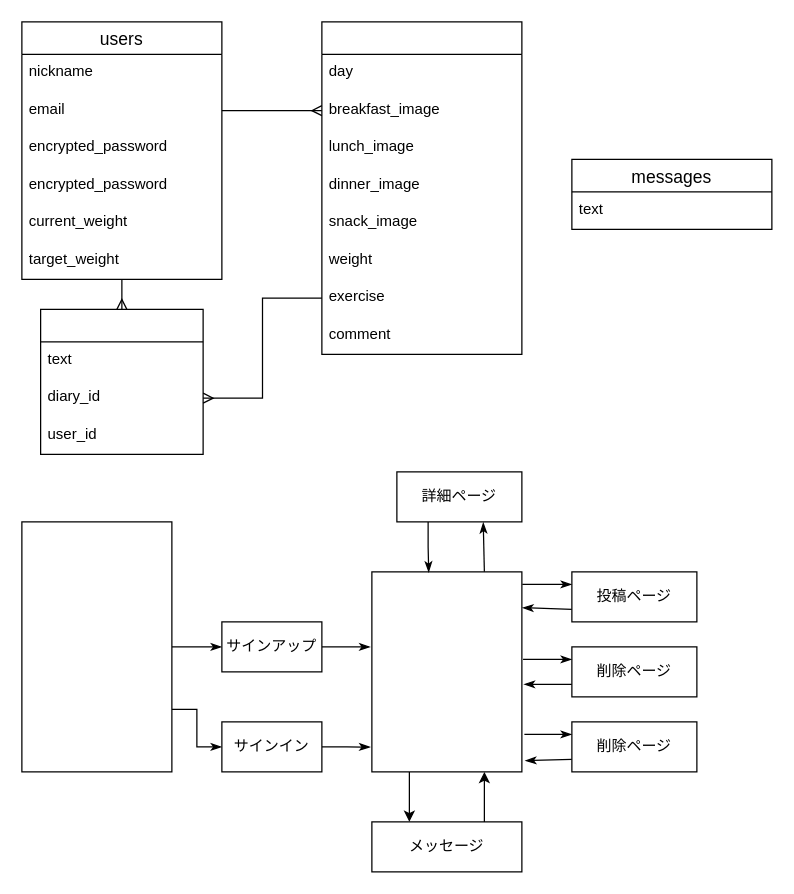
Some shapes in this 794 by 894 pixel diagram are drawn without their labels. Each missing label, with the box of its shape:
comments: (39, 308, 203, 454)
diaries: (321, 21, 522, 354)
トップページ: (21, 521, 172, 772)
ユーザーのマイページ: (371, 571, 522, 772)
